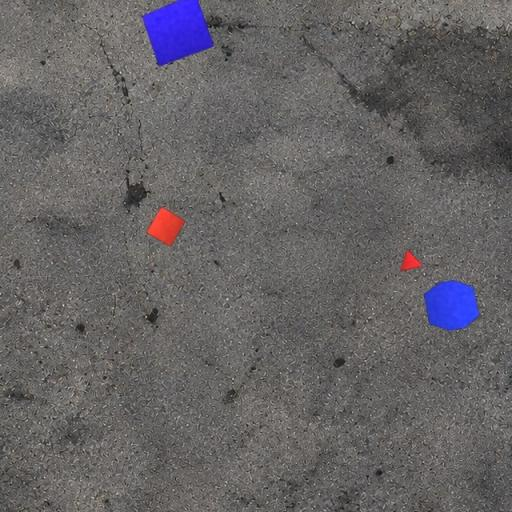BLUE_SQUARE: (142, 0, 215, 67)
RED_SQUARE: (145, 206, 186, 247)
